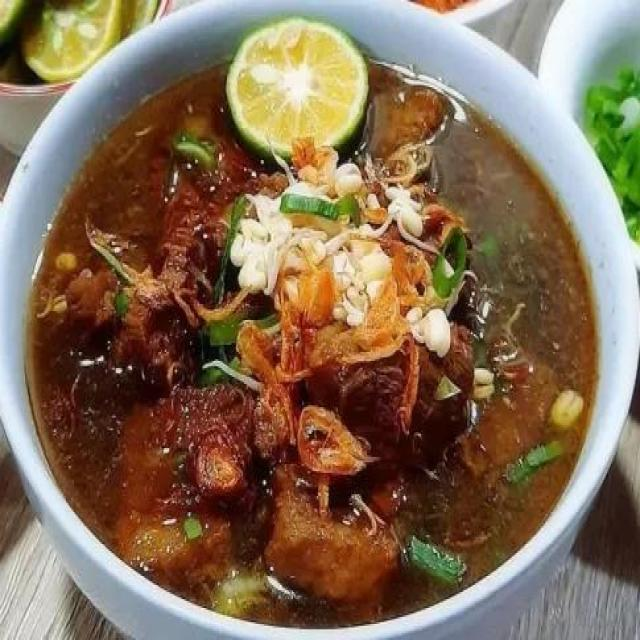Rawon: (61, 66, 585, 591)
